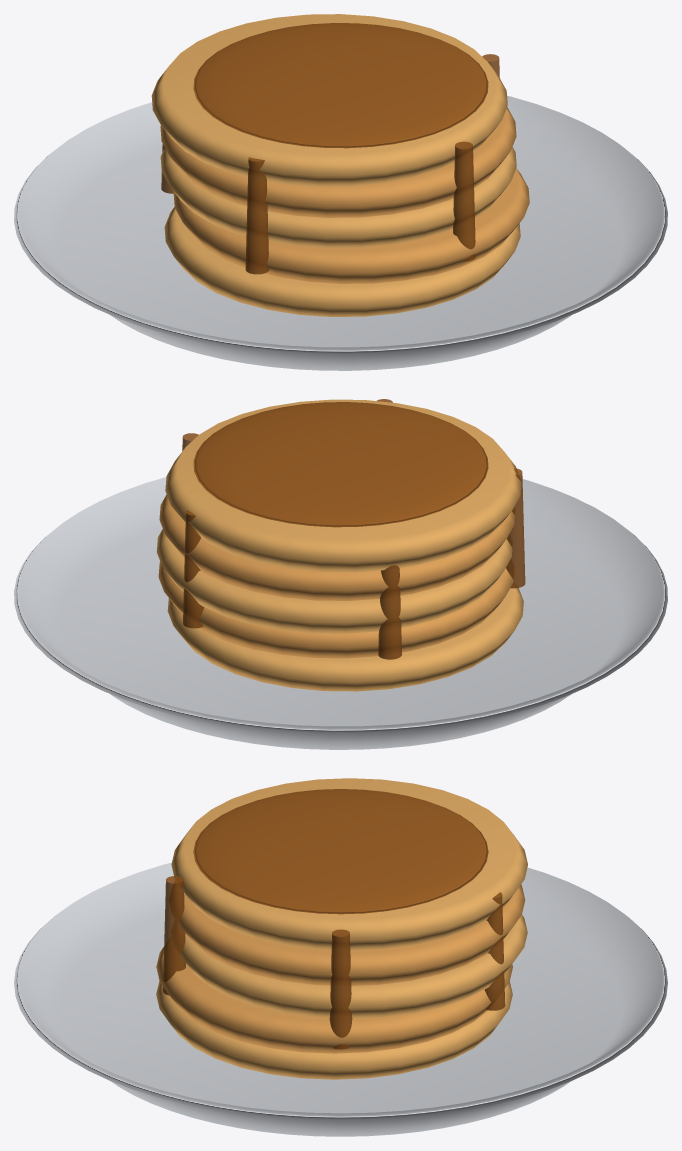
The model's file is mezzogiorno-pancake-sciroppo-d-acero.glb.
The picture shows the model from 3 angles, top to bottom: view 1: azimuth 30°, elevation 25°; view 2: azimuth 150°, elevation 25°; view 3: azimuth 270°, elevation 25°; orthographic projection.
Bounding box in the file's own units: 0.22 × 0.0675 × 0.22.
